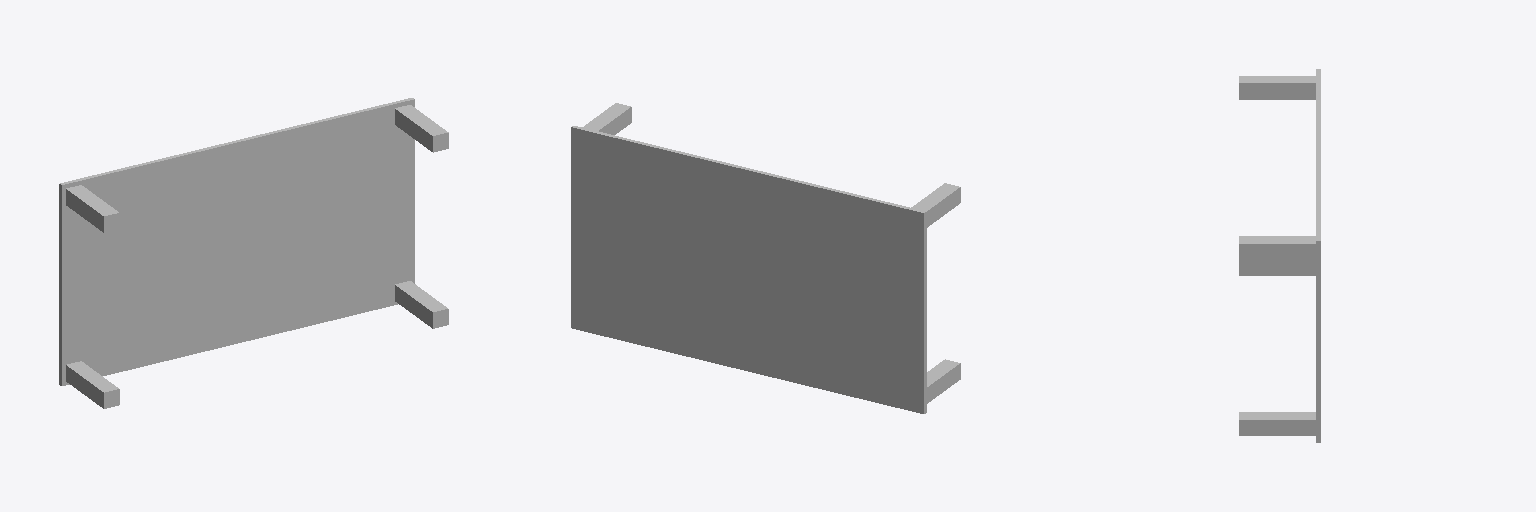
Rendered from random_table64.obj.
3 renders of one model, left to right at view 1: azimuth 30°, elevation 25°; view 2: azimuth 150°, elevation 25°; view 3: azimuth 270°, elevation 25°, orthographic.
Visible parts, largest first — view 1: Table_Cube.1385, TableLeg2_Cube.1388, TableLeg1_Cube.1387, TableLeg3_Cube.1389, TableLeg0_Cube.1386; view 2: Table_Cube.1385, TableLeg1_Cube.1387, TableLeg3_Cube.1389, TableLeg0_Cube.1386; view 3: Table_Cube.1385, TableLeg0_Cube.1386, TableLeg1_Cube.1387, TableLeg2_Cube.1388, TableLeg3_Cube.1389.
Part boxes in pixels (x1,y1,x2,y2): Table_Cube.1385: (59, 98, 414, 385); TableLeg2_Cube.1388: (395, 281, 448, 328); TableLeg1_Cube.1387: (66, 185, 119, 232); TableLeg3_Cube.1389: (66, 361, 119, 408); TableLeg0_Cube.1386: (395, 105, 448, 152); Table_Cube.1385: (571, 126, 926, 413); TableLeg1_Cube.1387: (911, 183, 960, 227); TableLeg3_Cube.1389: (927, 359, 960, 403); TableLeg0_Cube.1386: (582, 103, 631, 134); Table_Cube.1385: (1316, 69, 1320, 442); TableLeg0_Cube.1386: (1239, 236, 1315, 259); TableLeg1_Cube.1387: (1239, 76, 1315, 99); TableLeg2_Cube.1388: (1239, 412, 1315, 435); TableLeg3_Cube.1389: (1239, 260, 1315, 275).
Size of the model in its own units: 11.1 by 6.05 by 2.21.